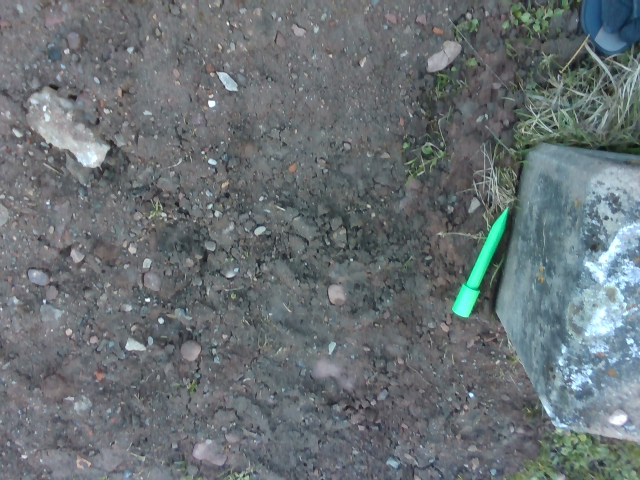Probe: (451, 196, 514, 324)
